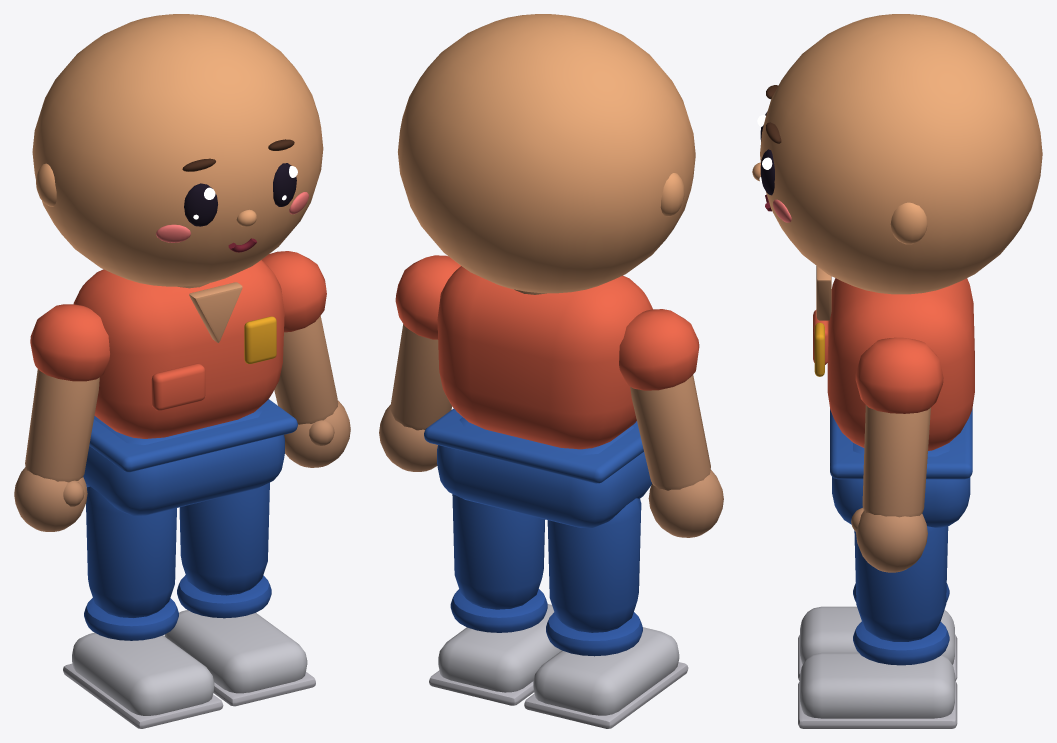
Rendered from body_adult_scrubs.glb.
The picture shows the model from 3 angles, left to right: view 1: azimuth 30°, elevation 25°; view 2: azimuth 150°, elevation 25°; view 3: azimuth 270°, elevation 25°; orthographic projection. The views are drawn at different scales.
Parts seen in each view (by area): view 1: Head, Torso, LegR, LegL, Hips, ArmR, ArmL; view 2: Head, Torso, LegR, LegL, Hips, ArmR, ArmL; view 3: Head, LegL, Torso, ArmL, Hips, LegR.
Part boxes in pixels (bbox=[...]): Head: bbox=[32, 14, 323, 286]; Torso: bbox=[73, 260, 284, 438]; LegR: bbox=[63, 486, 223, 728]; LegL: bbox=[164, 482, 315, 706]; Hips: bbox=[83, 399, 297, 515]; ArmR: bbox=[14, 304, 109, 531]; ArmL: bbox=[262, 251, 350, 467]; Head: bbox=[398, 14, 695, 293]; Torso: bbox=[437, 266, 652, 449]; LegR: bbox=[524, 498, 688, 728]; LegL: bbox=[429, 494, 561, 705]; Hips: bbox=[424, 408, 651, 527]; ArmR: bbox=[619, 309, 723, 537]; ArmL: bbox=[379, 255, 460, 471]; Head: bbox=[752, 14, 1042, 294]; LegL: bbox=[798, 526, 957, 728]; Torso: bbox=[813, 266, 974, 450]; ArmL: bbox=[851, 337, 943, 572]; Hips: bbox=[830, 408, 972, 527]; LegR: bbox=[798, 583, 957, 680].
Size of the model in its own units: 0.7408 by 1.4 by 0.5599.
